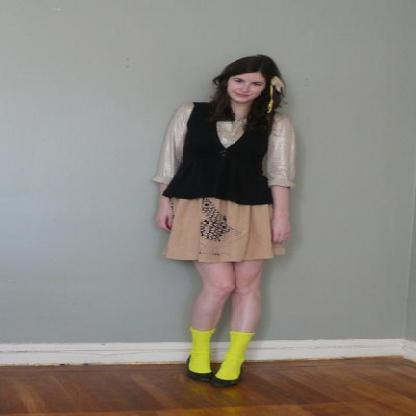shirt: (145, 102, 298, 206)
shoe: (188, 361, 220, 386)
skirt: (168, 198, 274, 266)
